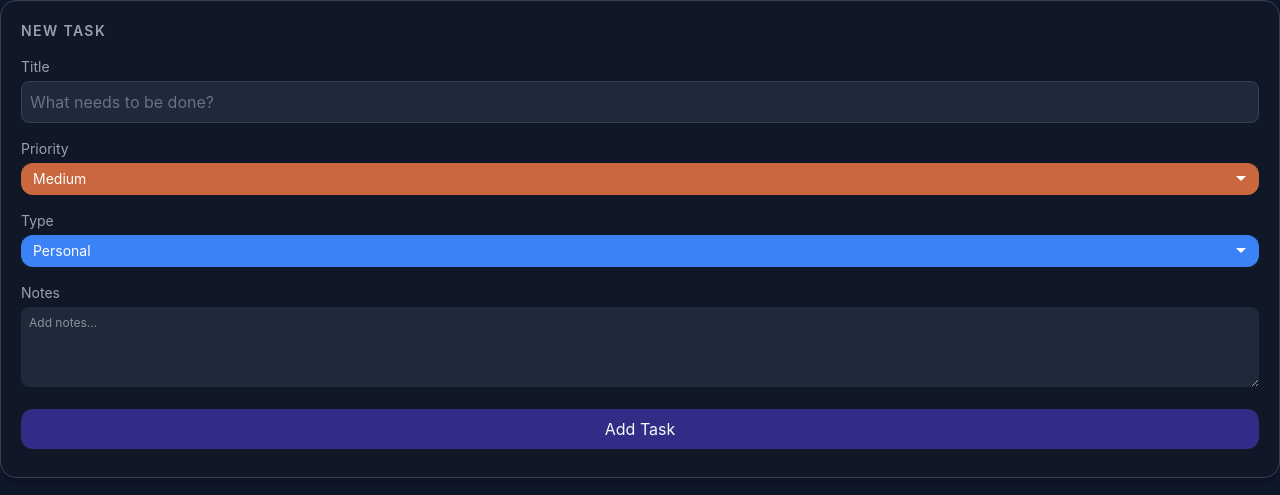
TaskForm › user can change priority selection
Click the button "Medium". click: [60, 178]
box: [21,163,1259,195]
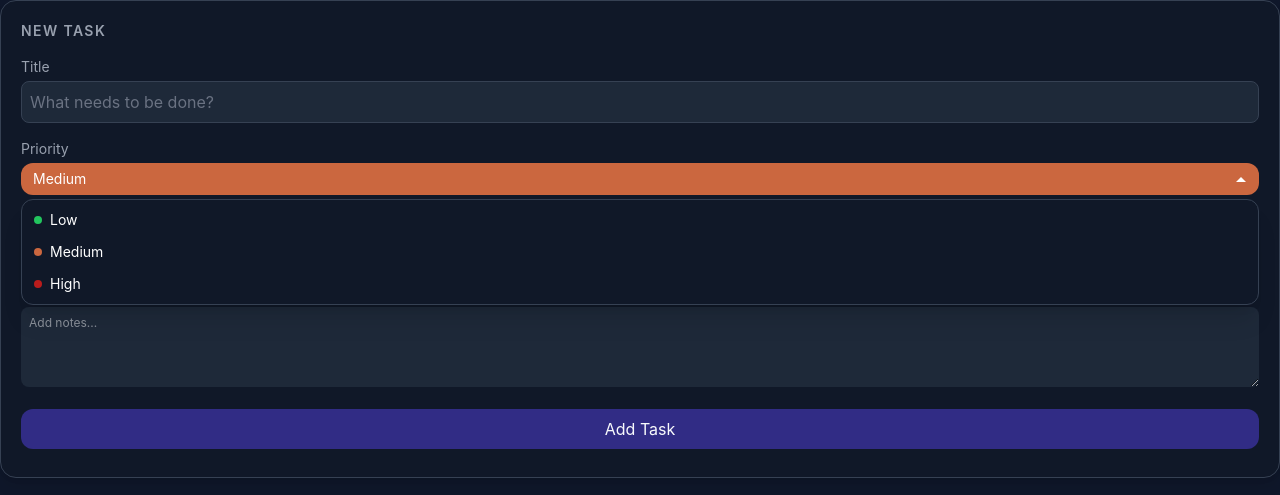
Click the button "High". click: [65, 284]
box: [22,268,1258,300]
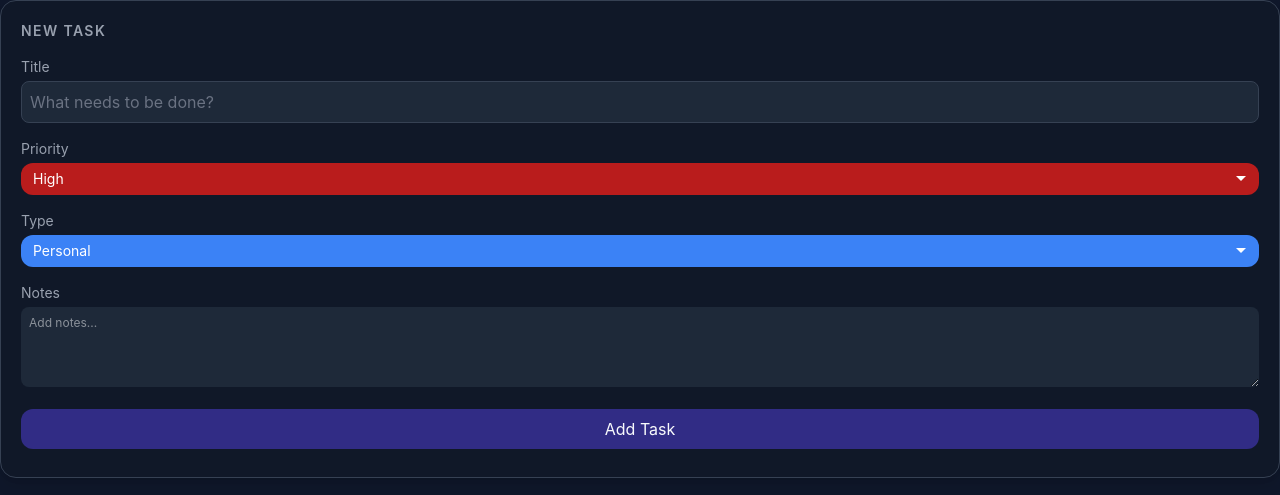
Check: the button "High" is shown, box [21,163,1259,195]
